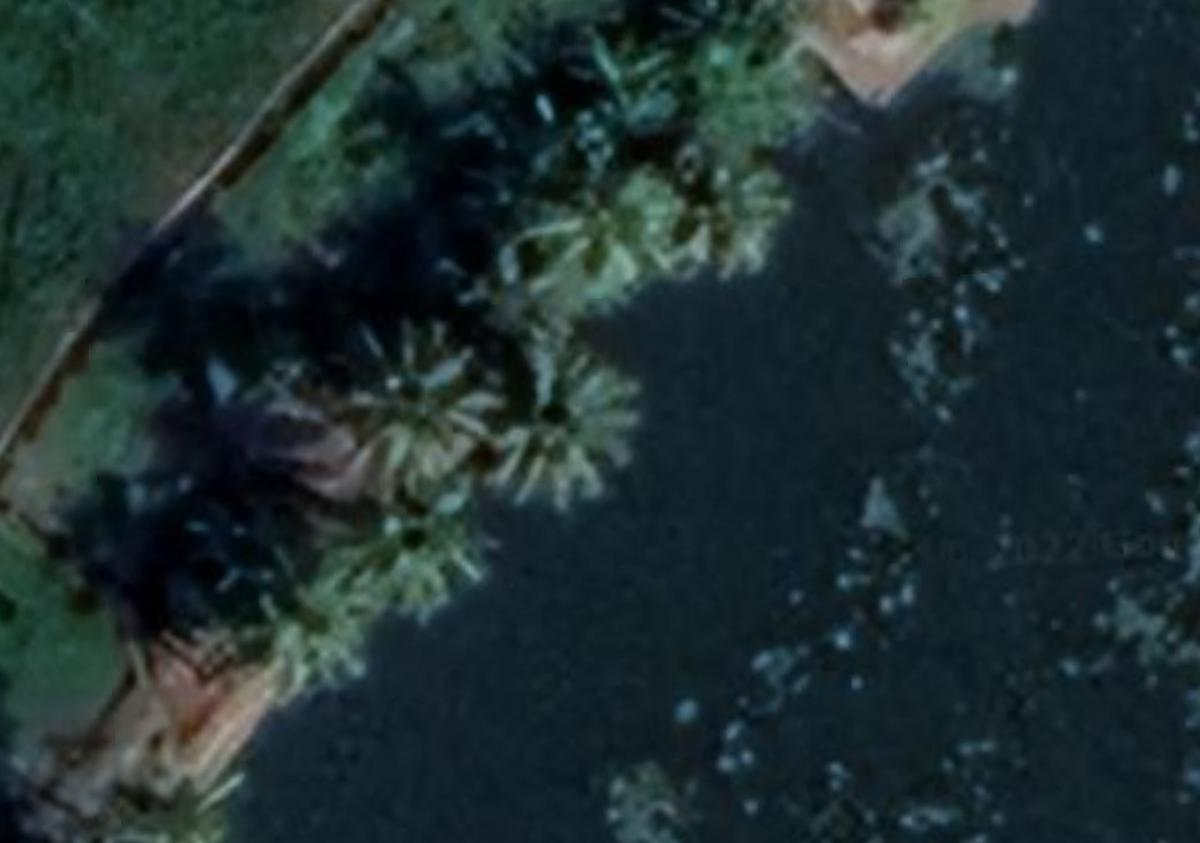coconut: (320, 480, 533, 630), (475, 351, 658, 506), (297, 313, 480, 442), (196, 552, 368, 673)
